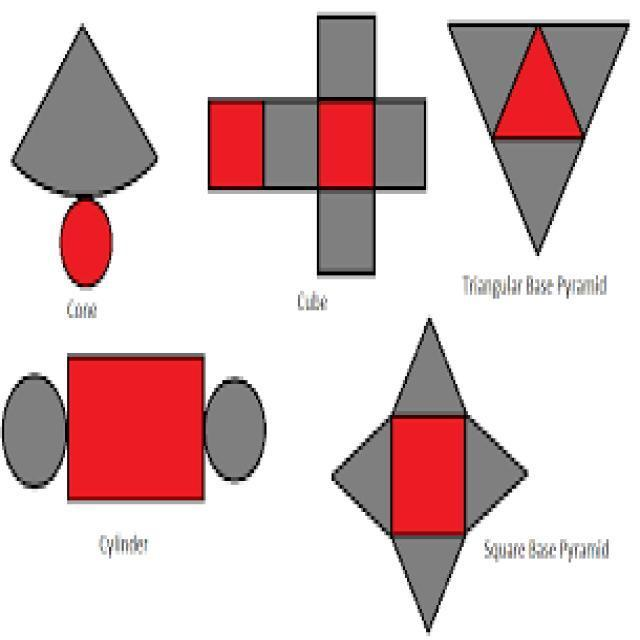circle: (198, 361, 274, 502), (0, 348, 66, 501), (50, 193, 124, 302)
square: (51, 343, 216, 517), (238, 78, 349, 220), (188, 78, 280, 212), (298, 8, 405, 116), (306, 180, 392, 286), (308, 83, 381, 196), (370, 83, 430, 204)
triangle: (428, 0, 640, 270), (343, 500, 497, 638), (480, 23, 596, 172), (473, 128, 603, 256), (428, 3, 535, 146), (535, 0, 629, 149), (376, 308, 484, 433), (443, 393, 533, 537), (310, 408, 400, 539)
